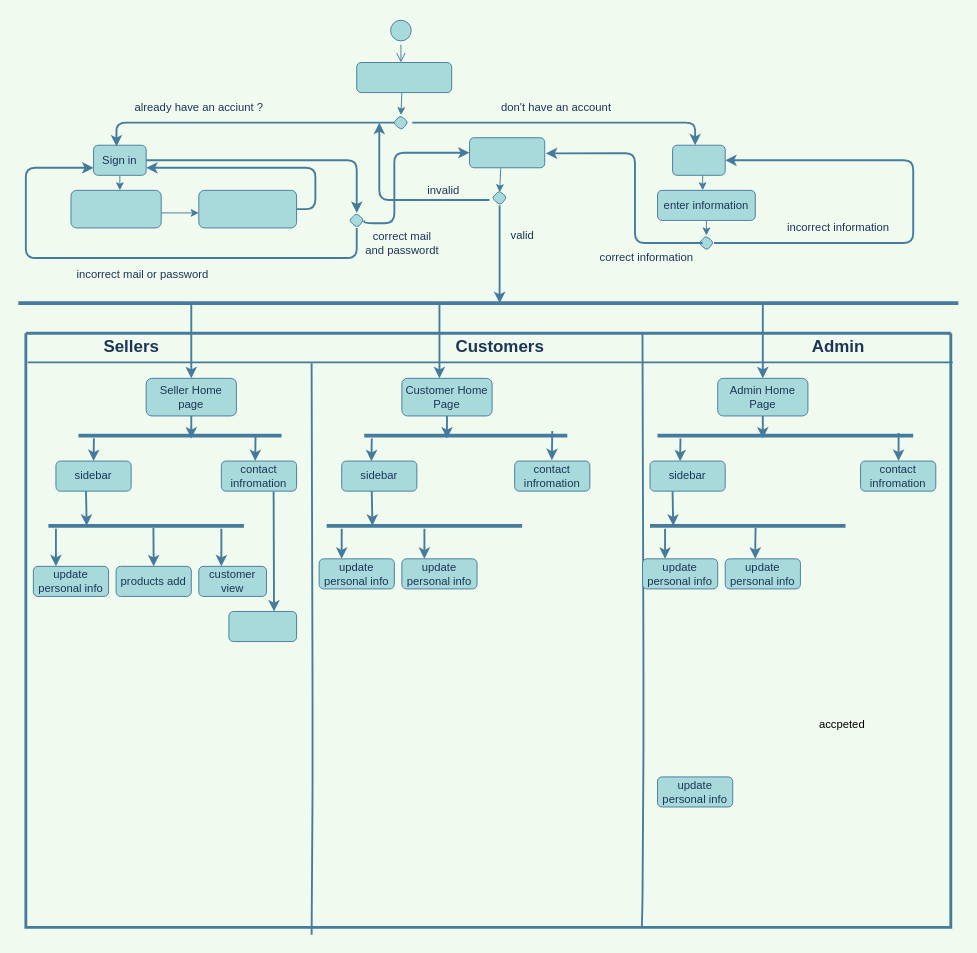
Some shapes in this 977 by 953 pixel diagram are drawn without their labels. Here are the shapes that lost their labels. From the top down, the centre of each, then its label:
the point at 404,77: Dashboard
the point at 507,152: authentication
the point at 698,159: Sign Up
the point at 115,208: forgot password
the point at 247,208: change password
the point at 262,626: update password
